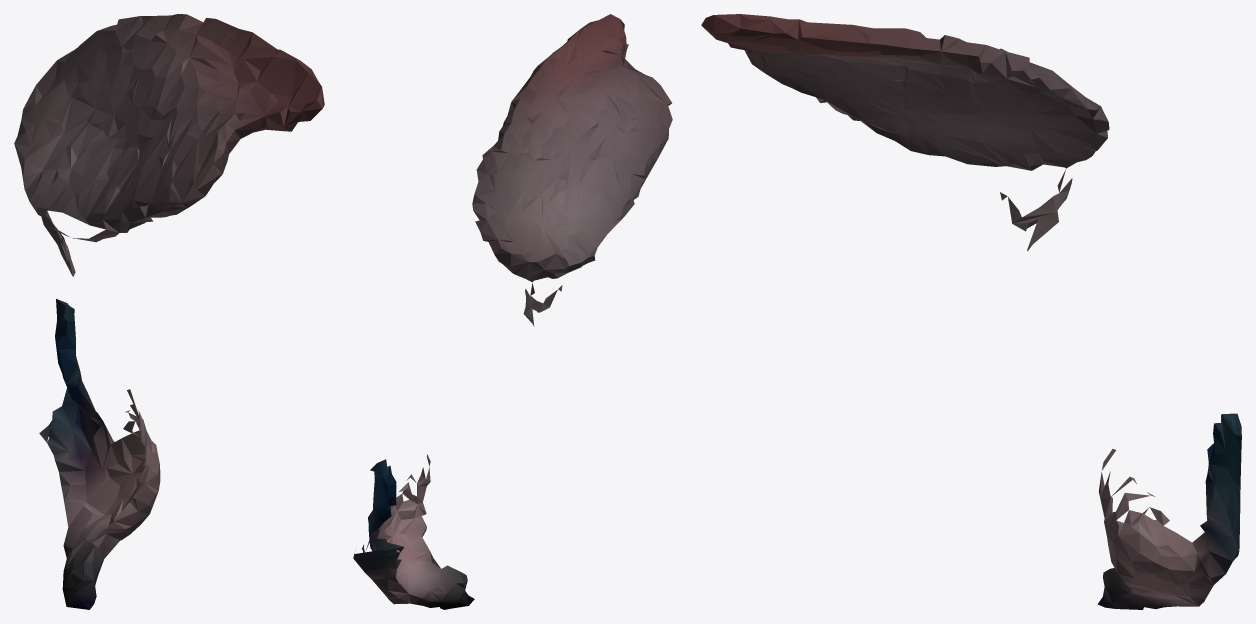
Rendered from prep_run__upper_fridge_right.scan.glb.
3 views of the same model, side by side, from view 1: azimuth 30°, elevation 25°; view 2: azimuth 150°, elevation 25°; view 3: azimuth 270°, elevation 25° (orthographic). The views are drawn at different scales.
Visible parts, largest first — view 1: geometry_0; view 2: geometry_0; view 3: geometry_0.
Boxes of the visible parts, bbox=[...] form: geometry_0: bbox=[14, 14, 324, 609]; geometry_0: bbox=[353, 14, 672, 609]; geometry_0: bbox=[701, 14, 1241, 609].
Bounding box in the file's own units: 0.1331 × 0.4073 × 0.3339.
